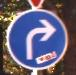turn: (6, 6, 70, 69)
